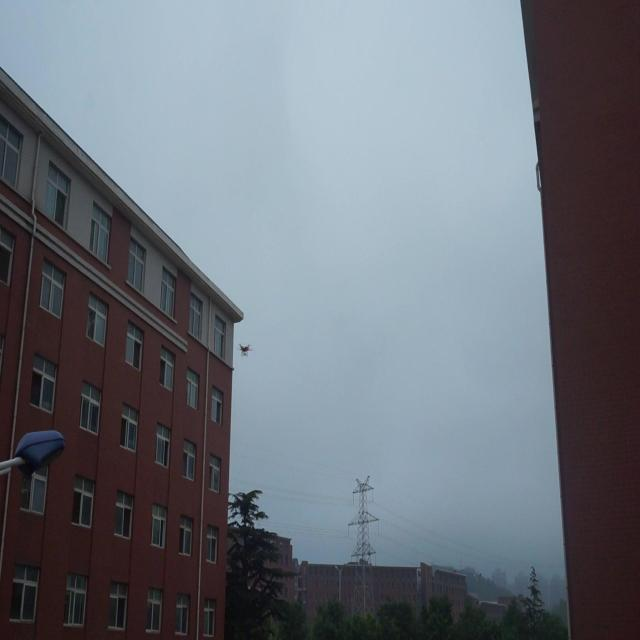drone: (235, 340, 255, 360)
